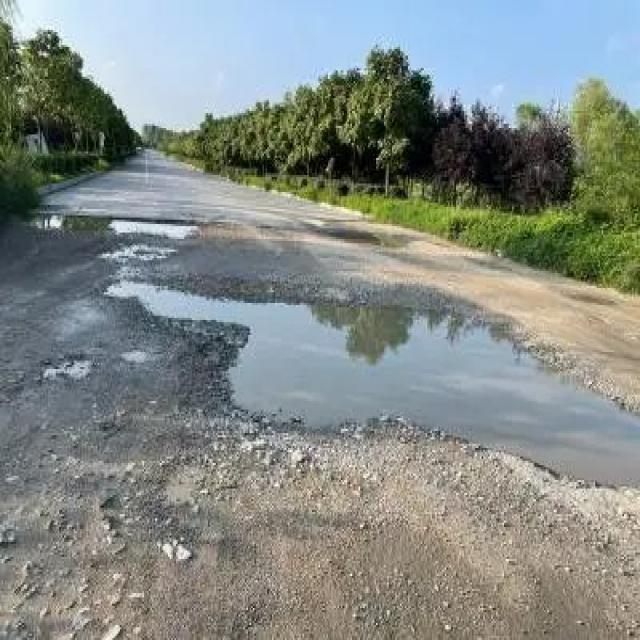Pothole: (88, 264, 638, 510), (40, 205, 381, 254)
